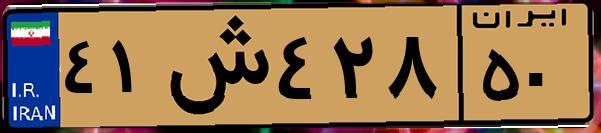0: (525, 38, 570, 115)
1: (110, 28, 158, 98)
2: (330, 28, 385, 110)
4: (270, 28, 330, 110), (57, 26, 110, 100)
5: (475, 38, 525, 113)
8: (385, 28, 445, 110)
ش: (158, 12, 270, 120)
